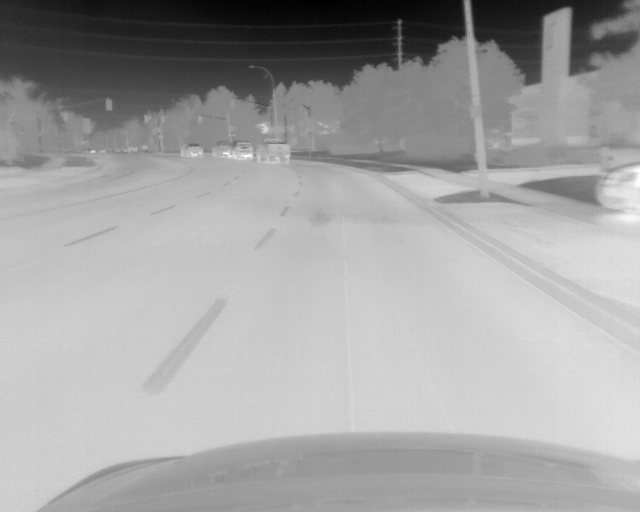car: (599, 160, 640, 215), (256, 138, 291, 162), (231, 140, 254, 160), (179, 142, 203, 158), (212, 140, 232, 158)
